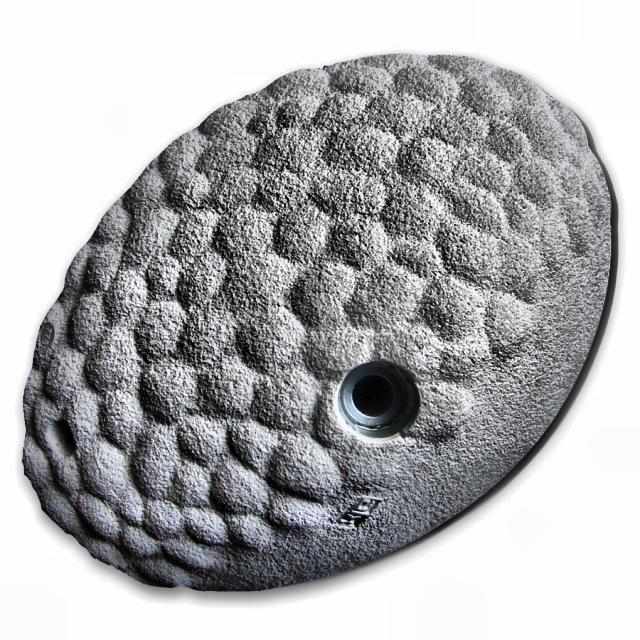Hold: (22, 54, 614, 594)
